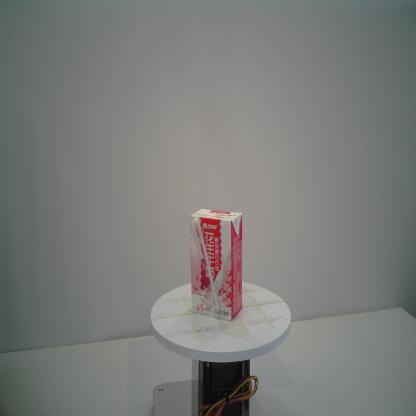Milk: (187, 206, 245, 326)
